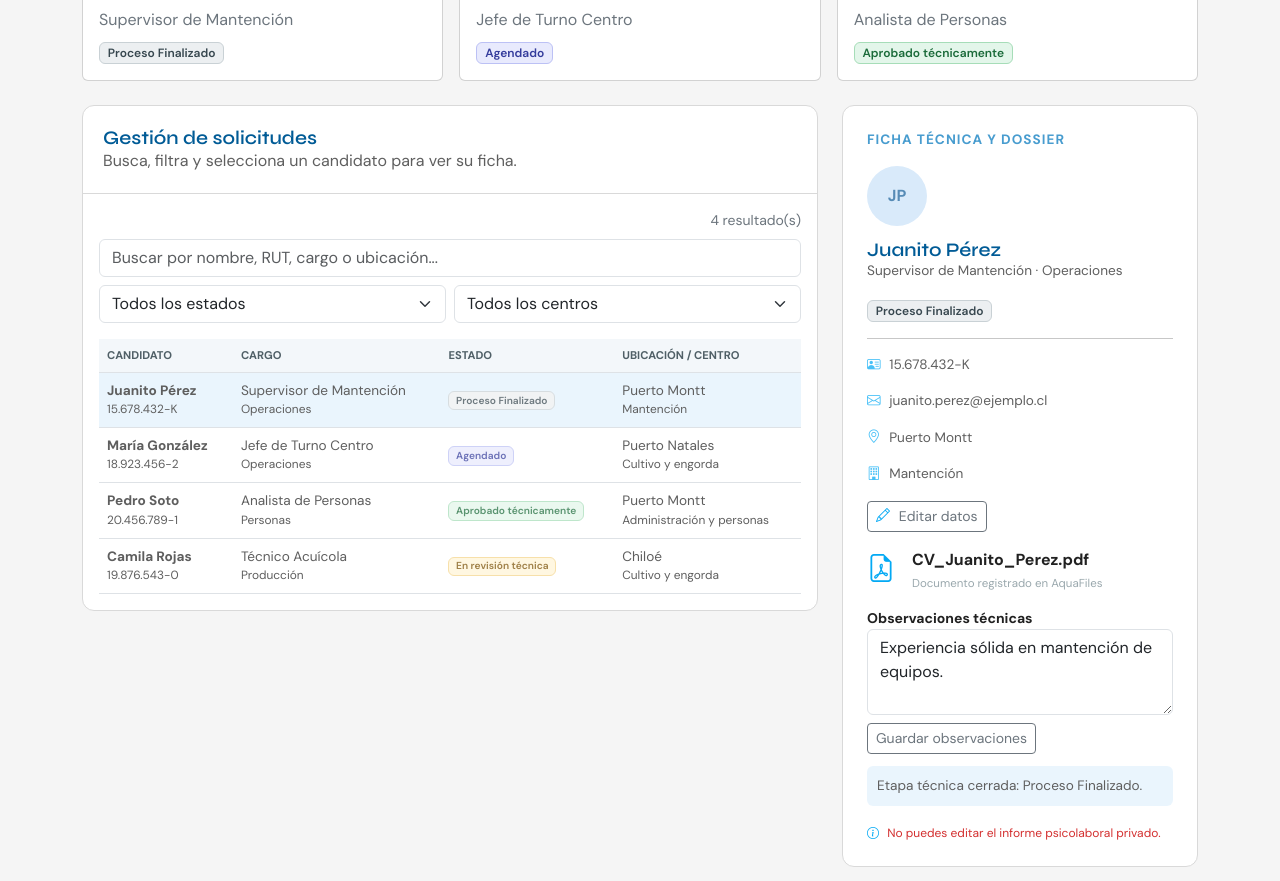
Scenario: Flujo del proceso › el supervisor rechaza a un candidato en revisión
(page scrolled)
Step 1. Click the row "Camila Rojas" → (450, 566), box [99,538,801,593]
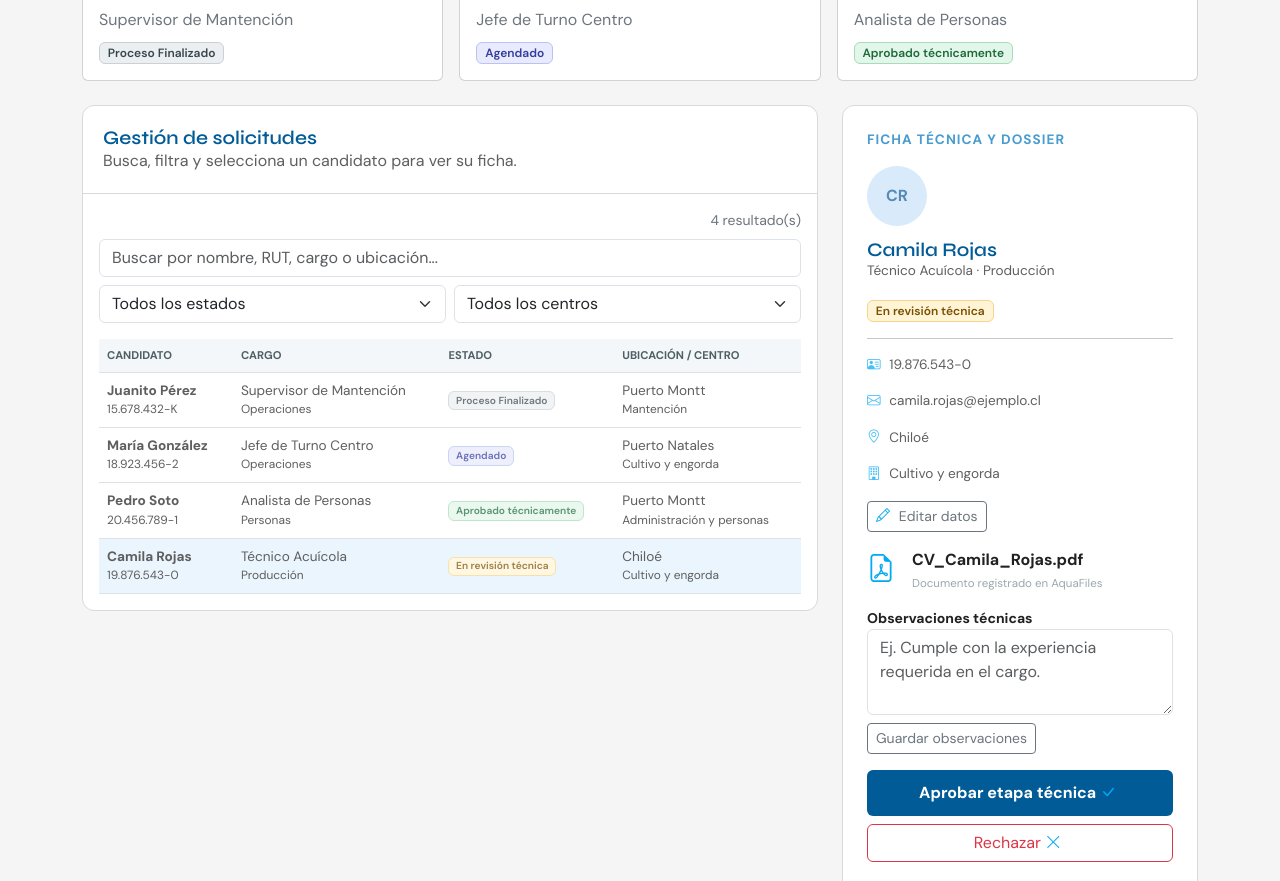
Step 2. Click the button "Rechazar" → (1020, 843), box [867,824,1173,862]
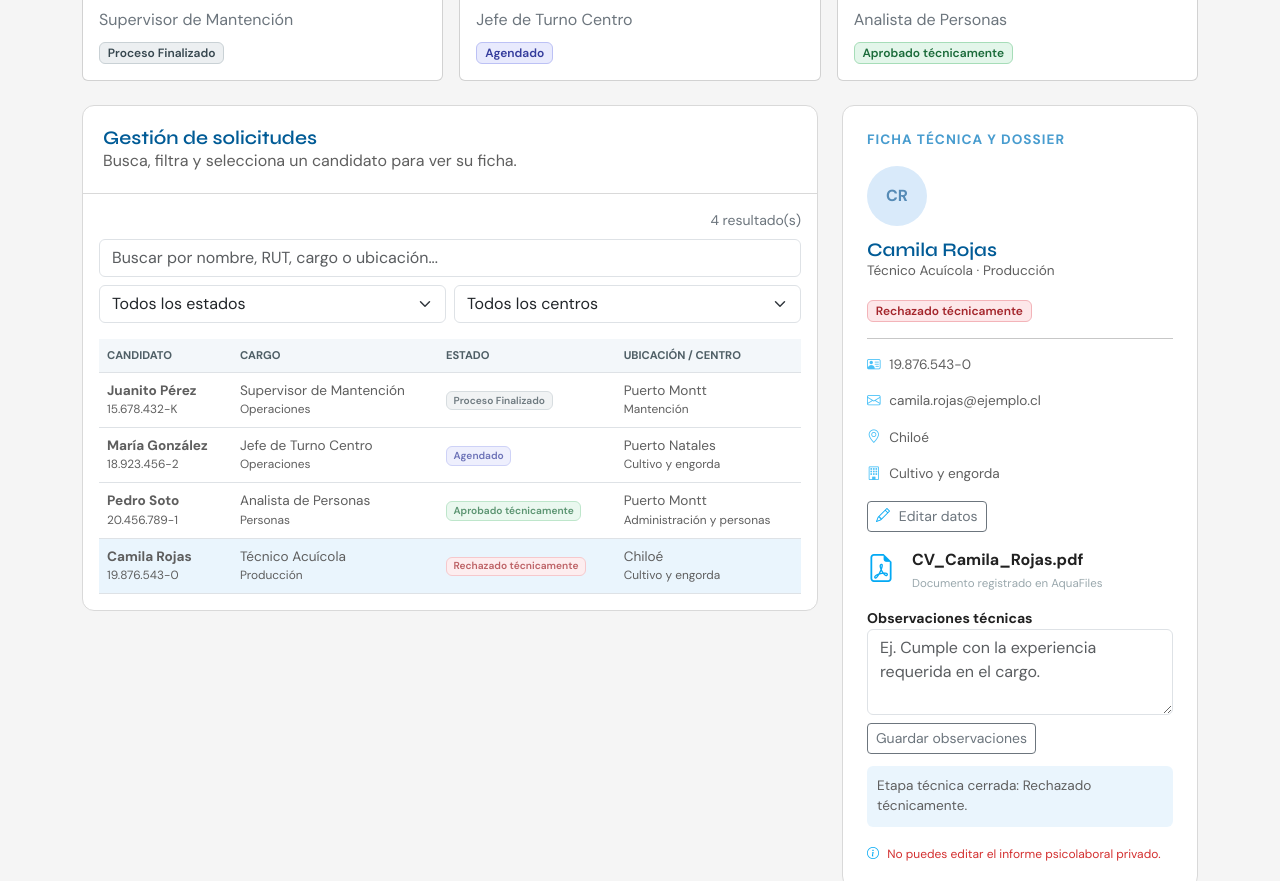
expect the text "Etapa técnica cerrada: Rechazado técnicamente." is shown: met, box [867,766,1173,827]
